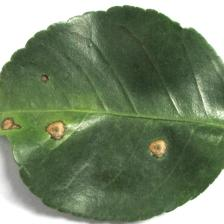canker: (1, 69, 173, 166)
